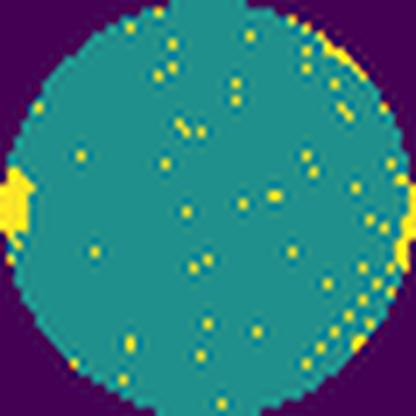Edge-Loc: (0, 162, 42, 244), (390, 172, 416, 273)
